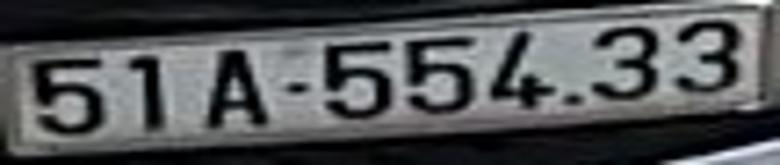-: (284, 82, 305, 93)
.: (566, 92, 578, 105)
1: (129, 56, 164, 129)
3: (596, 24, 657, 101), (681, 19, 741, 92)
4: (491, 35, 555, 109)
5: (404, 36, 477, 115), (28, 60, 104, 135), (324, 44, 391, 118)
A: (206, 52, 269, 127)
